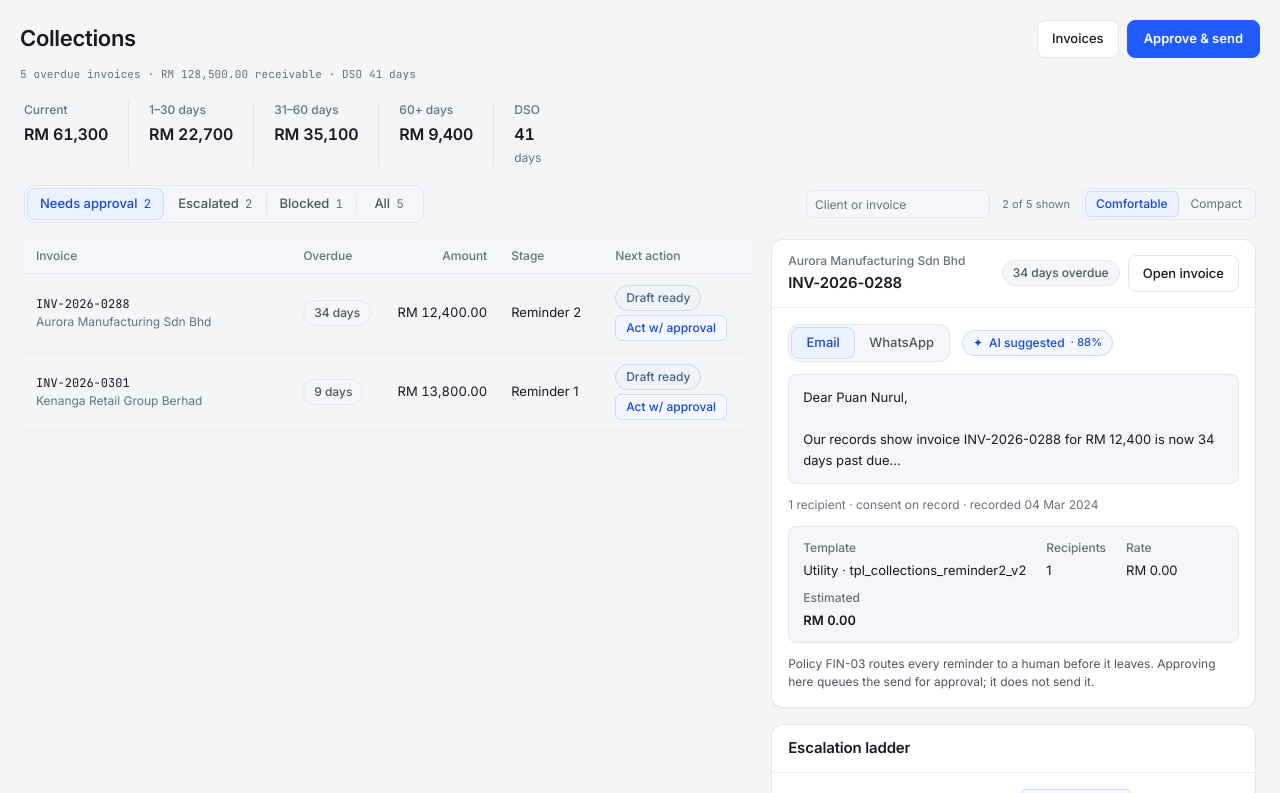
M13-S05 · collections queue › shows the 78-day item as a trading hold the MD owns
Expected: the heading "Collections" is shown, x1=20 y1=22 x2=136 y2=55
Click the tab "Escalated 2". click: (215,204)
box: x1=165 y1=188 x2=266 y2=220
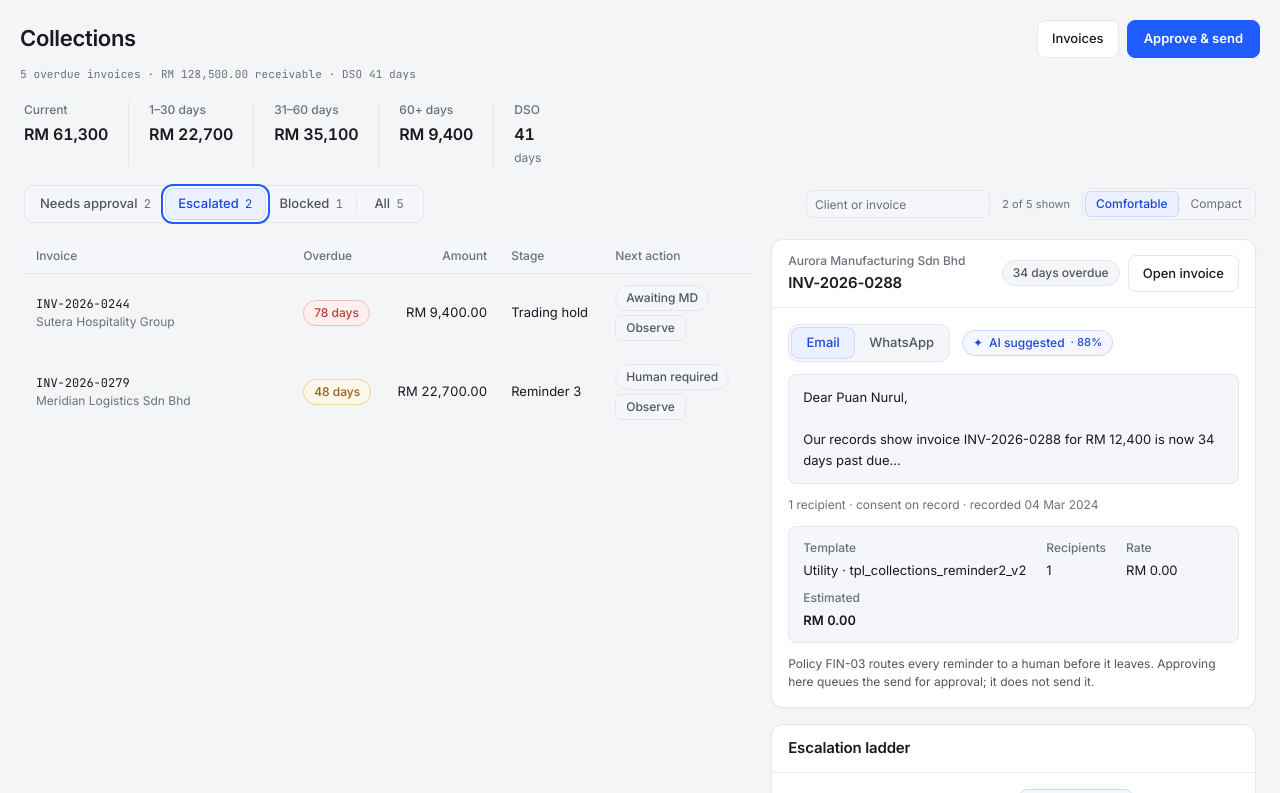
Click the text "INV-2026-0244". click: (83,304)
box: x1=36 y1=296 x2=130 y2=312
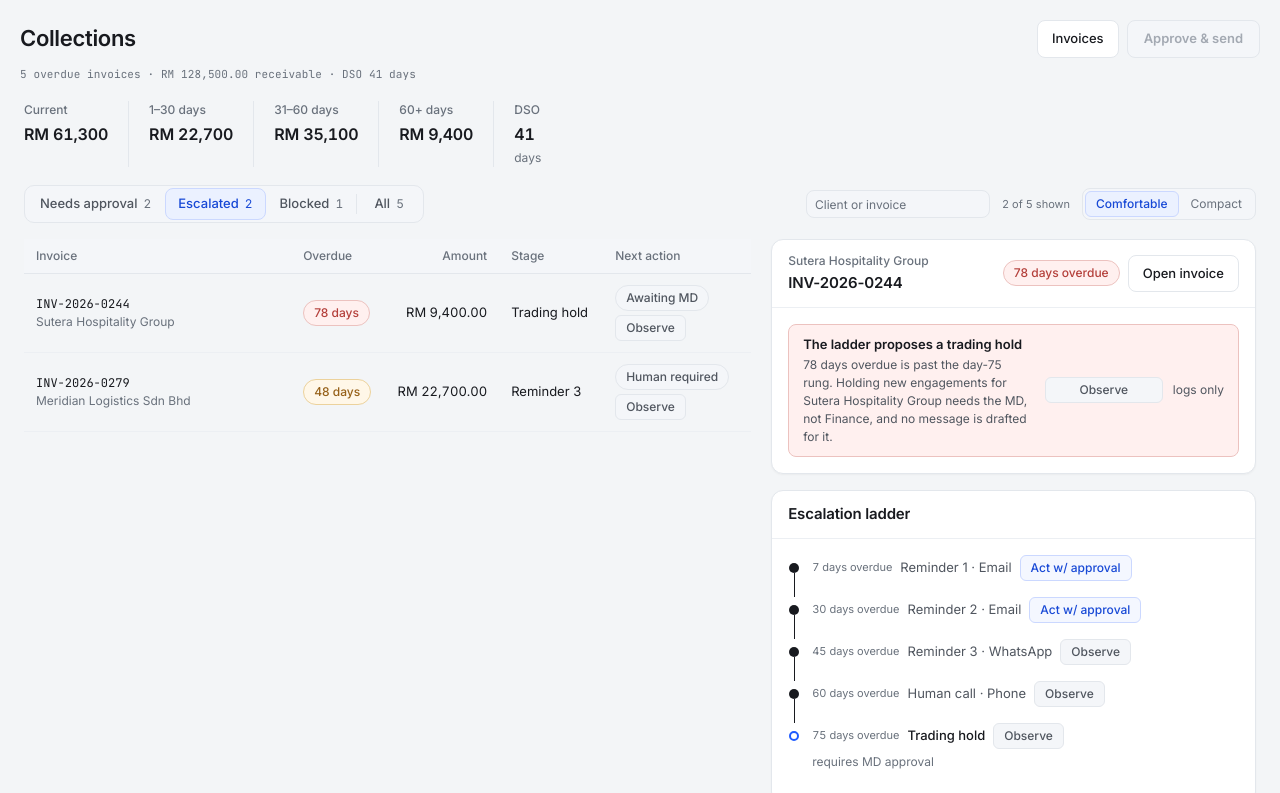
Now the text "The ladder proposes a trading hold" is shown, box x1=803 y1=334 x2=1033 y2=354
Now the text "needs the MD, not Finance" is shown, box x1=803 y1=357 x2=1027 y2=444
